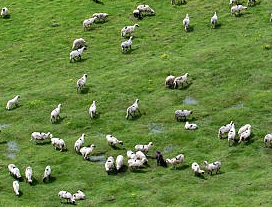sheep: (122, 97, 144, 119), (2, 162, 25, 181), (100, 132, 125, 149), (187, 161, 208, 181), (78, 141, 99, 160), (239, 123, 256, 146), (74, 73, 90, 96), (174, 108, 198, 122), (46, 135, 67, 151), (166, 152, 188, 167), (58, 187, 76, 205), (217, 121, 236, 138), (29, 130, 52, 144), (88, 99, 102, 121), (23, 163, 37, 185), (82, 17, 101, 32), (72, 135, 88, 152), (92, 10, 111, 24), (50, 104, 64, 123), (202, 160, 222, 173), (71, 187, 87, 203), (226, 125, 238, 146), (119, 24, 141, 35), (119, 37, 134, 53), (111, 153, 126, 169), (68, 48, 85, 62), (181, 120, 200, 132), (175, 73, 190, 88), (153, 150, 167, 166), (125, 149, 141, 163), (104, 157, 118, 173), (180, 13, 193, 30), (133, 149, 150, 162), (228, 3, 248, 14), (132, 142, 154, 152), (5, 96, 22, 108), (10, 178, 21, 196), (163, 74, 179, 86), (41, 166, 53, 182), (210, 10, 220, 29), (136, 4, 154, 14), (67, 36, 84, 46), (1, 5, 12, 18)
